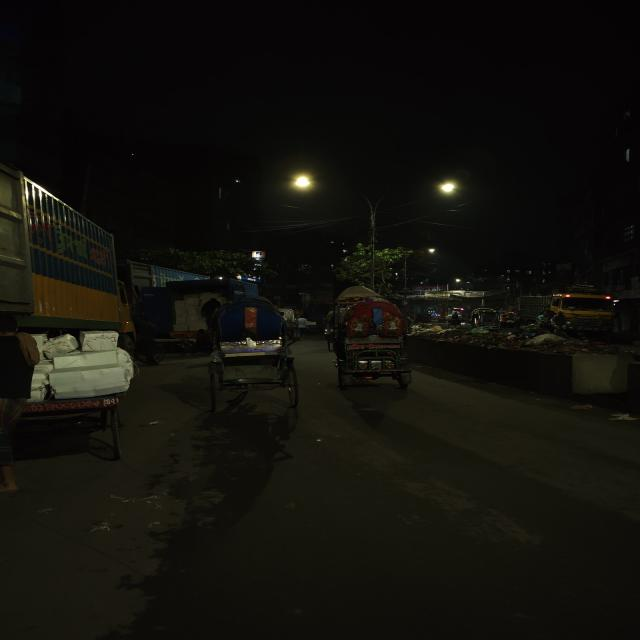rickshaw: (9, 331, 137, 472), (204, 294, 302, 400), (323, 285, 417, 393), (468, 306, 504, 332), (443, 312, 465, 329)
truck: (0, 197, 128, 323), (539, 288, 619, 334)
